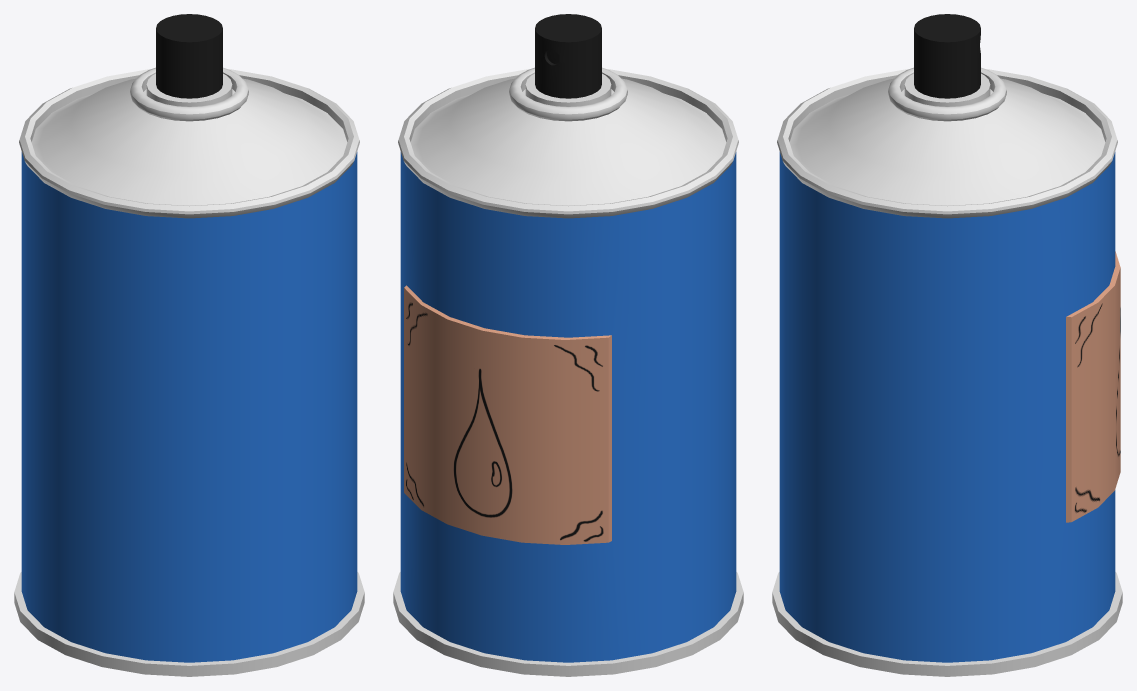
The model's file is sprayAzul.fbx.
3 renders of one model, left to right at view 1: azimuth 30°, elevation 25°; view 2: azimuth 150°, elevation 25°; view 3: azimuth 270°, elevation 25°, orthographic.
Parts seen in each view (by area): view 1: Spray; view 2: Spray; view 3: Spray.
Part boxes in pixels (x1,y1,x2,y2): Spray: (14,14,364,676); Spray: (393,14,743,676); Spray: (772,14,1122,676).
Bounding box in the file's own units: 45.88 × 83.07 × 45.88.
